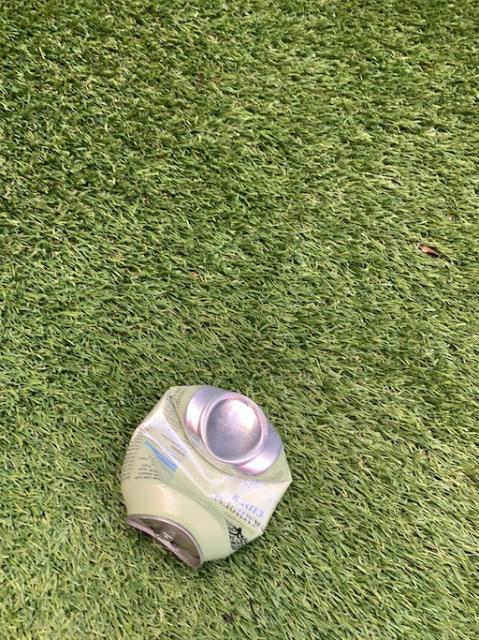metal: (120, 384, 290, 566)
